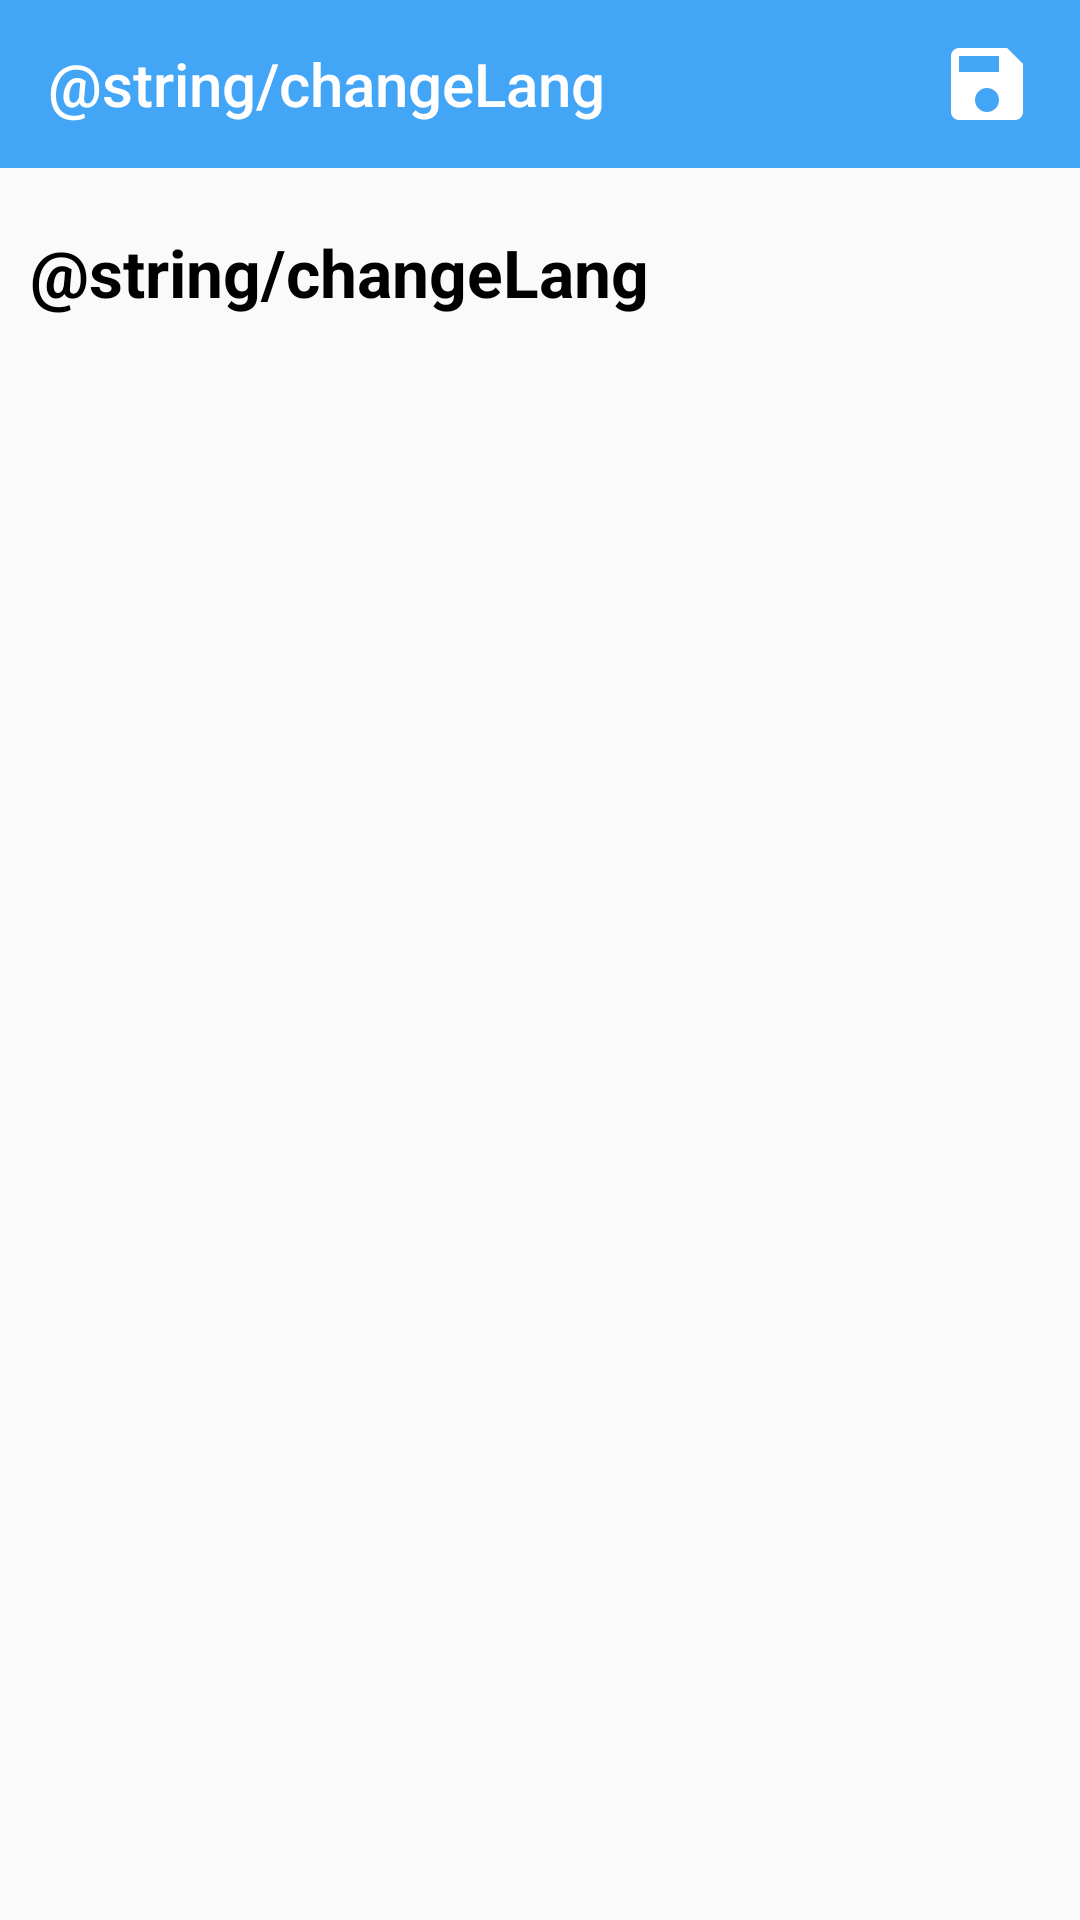

Icon click points for this 1080×1920 phone screenshot, format point (x, y):
save: point (987, 84)
